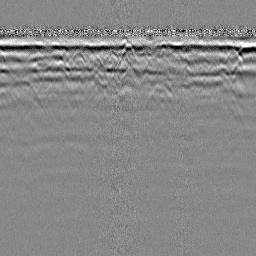cavity: (118, 43, 141, 65)
